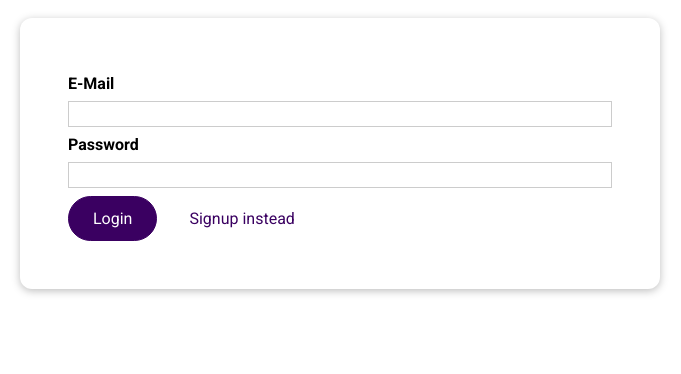
Test: UserAuth page › Interactions › displays registration fail message when input field is empty
Step 1. Click the button "Login" → coordinates (113, 218), box [68, 196, 158, 241]
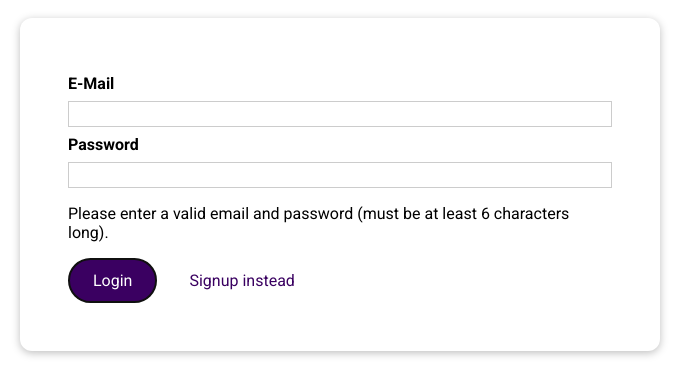
Check: the text "Please enter a valid email and password (must be at least 6 characters long)." is shown, box [68, 204, 612, 242]
